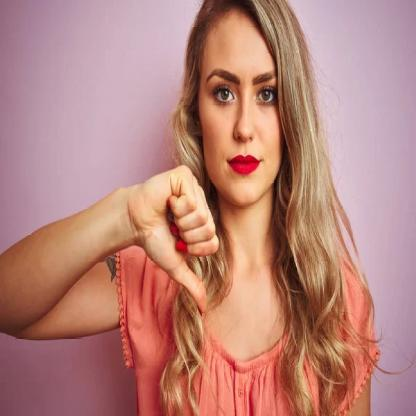thumb_down: (126, 161, 221, 318)
